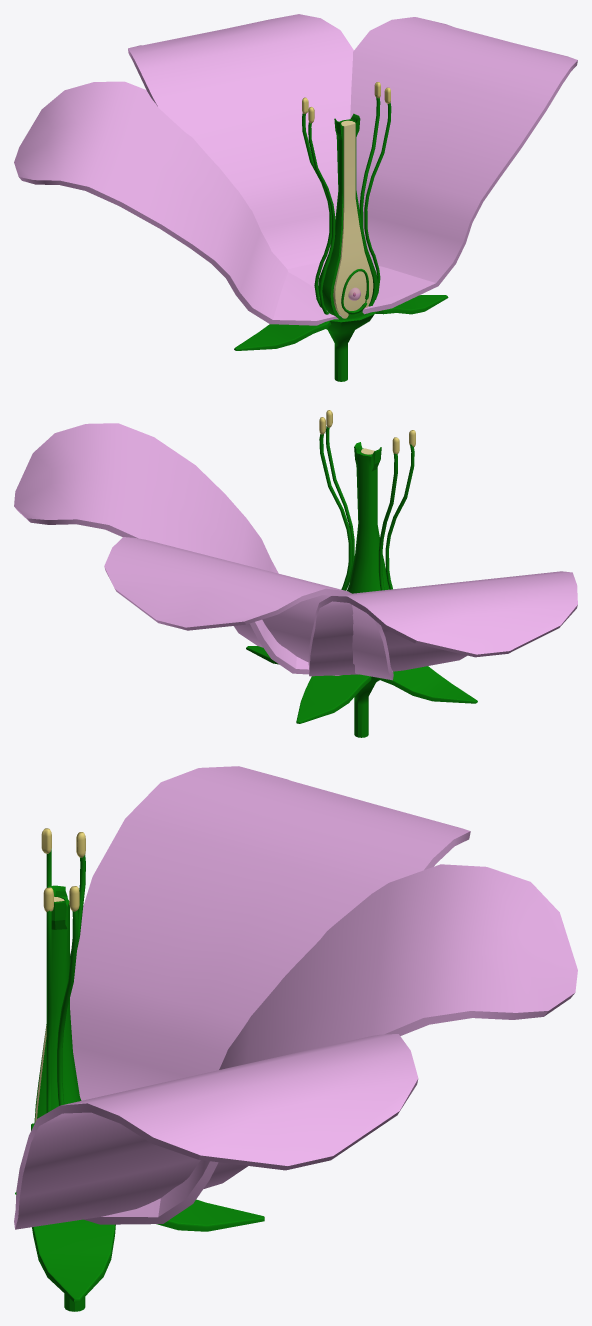
The model's file is flower_parts.fbx.
The picture shows the model from 3 angles, top to bottom: view 1: azimuth 30°, elevation 25°; view 2: azimuth 150°, elevation 25°; view 3: azimuth 270°, elevation 25°; orthographic projection. The views are drawn at different scales.
Parts seen in each view (by area): view 1: pCube11, pCube10, pCube9, polySurface2, polySurface1, pCube5, pCylinder16, pCylinder18, pCylinder20, pCube7, pCylinder19, pCylinder21; view 2: pCube11, pCube9, pCube10, polySurface1, pCube6, pCube5, pCylinder16, pCylinder21, pCylinder18, pCylinder19, pCylinder20; view 3: pCube9, pCube10, pCube11, pCube7, polySurface1, pCube6, pCylinder21, pCylinder20.
Boxes of the visible parts, bbox=[...] form: pCube11: bbox=[350, 17, 577, 314]; pCube10: bbox=[128, 14, 353, 287]; pCube9: bbox=[14, 81, 343, 325]; polySurface2: bbox=[333, 120, 373, 318]; polySurface1: bbox=[318, 113, 377, 319]; pCube5: bbox=[234, 321, 331, 350]; pCylinder16: bbox=[326, 311, 375, 381]; pCylinder18: bbox=[308, 122, 335, 314]; pCylinder20: bbox=[364, 103, 391, 299]; pCube7: bbox=[375, 295, 448, 314]; pCylinder19: bbox=[302, 113, 331, 307]; pCylinder21: bbox=[359, 95, 380, 229]; pCube11: bbox=[14, 423, 340, 675]; pCube9: bbox=[308, 571, 577, 676]; pCube10: bbox=[104, 537, 393, 680]; polySurface1: bbox=[347, 442, 389, 593]; pCube6: bbox=[296, 674, 371, 723]; pCube5: bbox=[376, 666, 477, 703]; pCylinder16: bbox=[354, 676, 379, 737]; pCylinder21: bbox=[319, 434, 352, 590]; pCylinder18: bbox=[385, 444, 414, 589]; pCylinder19: bbox=[378, 453, 397, 590]; pCylinder20: bbox=[325, 426, 354, 590]; pCube9: bbox=[70, 766, 470, 1100]; pCube10: bbox=[84, 864, 577, 1224]; pCube11: bbox=[14, 1034, 418, 1229]; pCube7: bbox=[32, 1219, 115, 1302]; polySurface1: bbox=[34, 885, 81, 1123]; pCube6: bbox=[156, 1199, 264, 1231]; pCylinder21: bbox=[57, 910, 78, 1105]; pCylinder20: bbox=[46, 910, 51, 1112].
Bounding box in the file's own units: 48.33 × 25.42 × 29.
